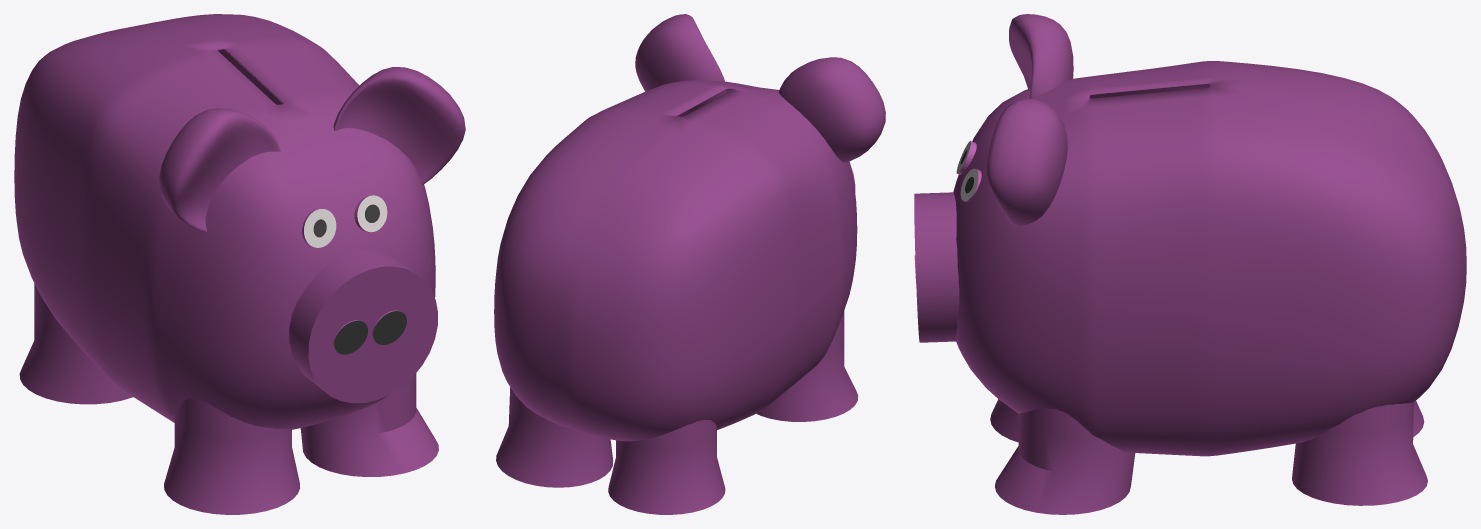
Rendered from locotb_piggybank.gltf.
3 views of the same model, side by side, from view 1: azimuth 30°, elevation 25°; view 2: azimuth 150°, elevation 25°; view 3: azimuth 270°, elevation 25° (orthographic). The views are drawn at different scales.
Parts seen in each view (by area): view 1: Cylinder.014; view 2: Cylinder.014; view 3: Cylinder.014.
Part boxes in pixels (x1,y1,x2,y2): Cylinder.014: (14,14,465,514); Cylinder.014: (494,14,885,514); Cylinder.014: (914,14,1466,514).
Size of the model in its own units: 0.5931 by 0.7696 by 0.9863.
